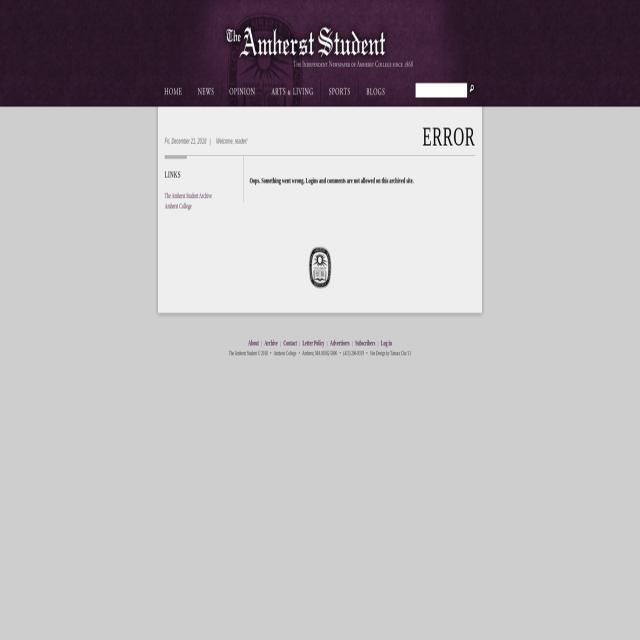button: (220, 0, 420, 67), (263, 81, 321, 106), (221, 81, 263, 106), (309, 246, 331, 288), (358, 81, 392, 106), (190, 81, 221, 106), (325, 81, 355, 106), (161, 81, 186, 107), (469, 82, 475, 94)
field: (415, 83, 467, 98)
